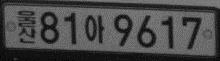1: (62, 11, 78, 45), (161, 14, 175, 50)
6: (136, 13, 157, 48)
7: (180, 15, 202, 50)
8: (39, 10, 60, 45)
9: (112, 13, 133, 46)
아: (83, 12, 105, 44)
울산_V: (16, 9, 37, 45)
